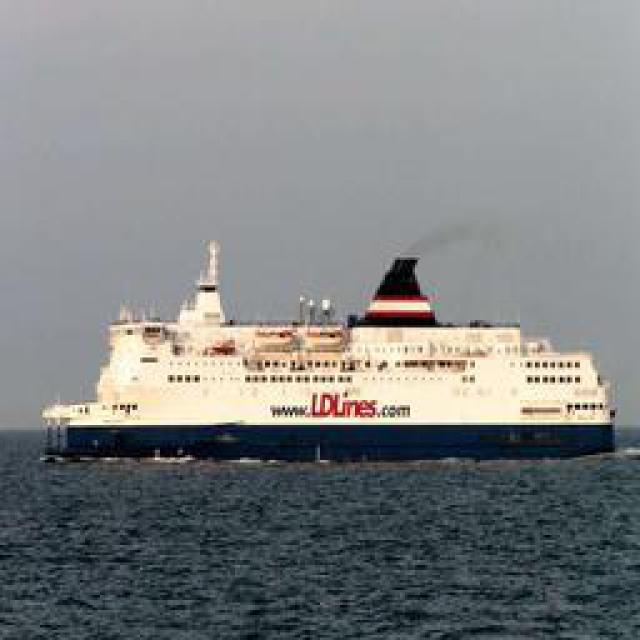Ship: (38, 236, 613, 464)
